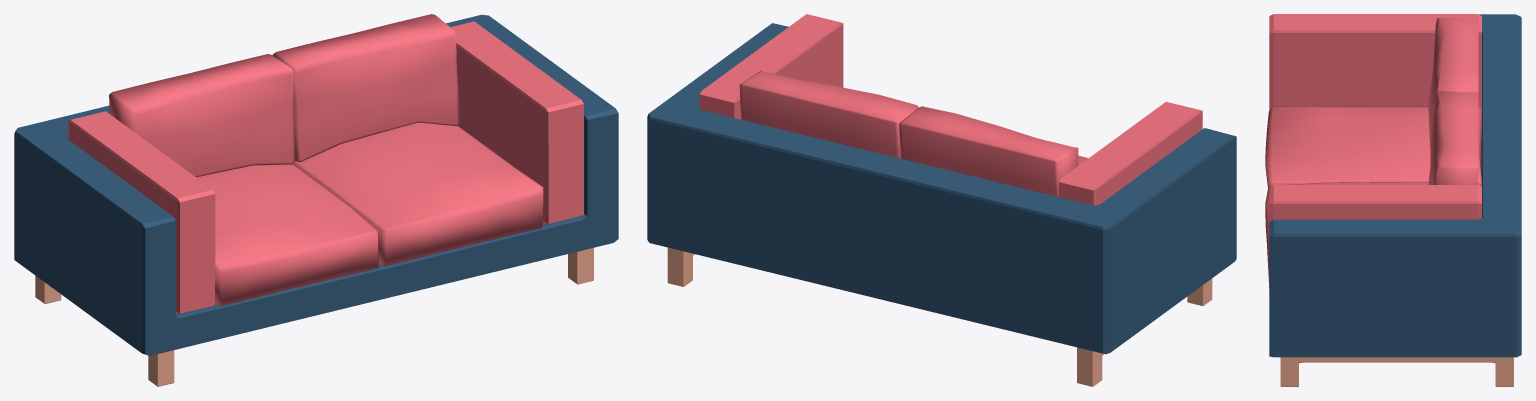
Rendered from sofaSmall.fbx.
The picture shows the model from 3 angles, left to right: view 1: azimuth 30°, elevation 25°; view 2: azimuth 150°, elevation 25°; view 3: azimuth 270°, elevation 25°; orthographic projection. The views are drawn at different scales.
Visible parts, largest first — view 1: LoveSeat; view 2: LoveSeat; view 3: LoveSeat.
Boxes of the visible parts, bbox=[...] form: LoveSeat: bbox=[14, 14, 618, 386]; LoveSeat: bbox=[647, 14, 1236, 386]; LoveSeat: bbox=[1265, 14, 1521, 386].
Size of the model in its own units: 200 by 84.14 by 98.53.
Materials: 1 (1 with a texture image).
